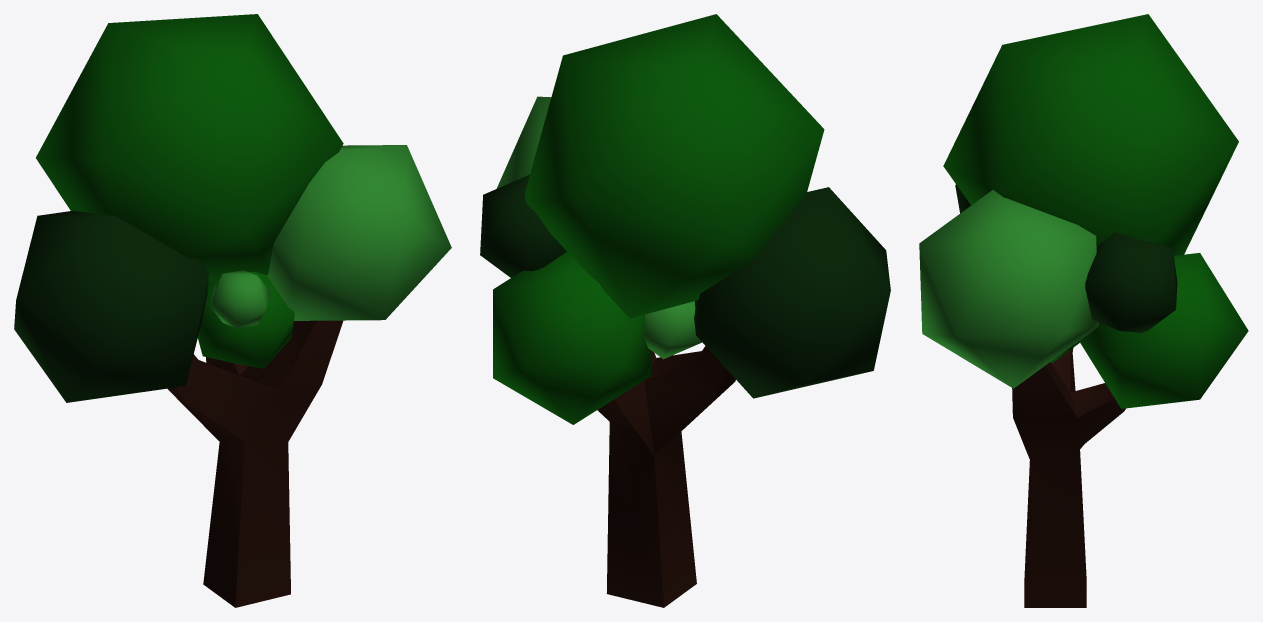
File: Yard_AnyWhere_Tree_NoSwing_1.FBX
3 views of the same model, side by side, from view 1: azimuth 30°, elevation 25°; view 2: azimuth 150°, elevation 25°; view 3: azimuth 270°, elevation 25° (orthographic). The views are drawn at different scales.
Parts seen in each view (by area): view 1: Yard_AnyWhere_Tree_NoSwing_1_leaves02, Yard_AnyWhere_Tree_NoSwing_1_leaves04, Yard_AnyWhere_Tree_NoSwing_1_wood, Yard_AnyWhere_Tree_NoSwing_1_leaves03, Yard_AnyWhere_Tree_NoSwing_1_leaves06, Yard_AnyWhere_Tree_NoSwing_1_leaves01; view 2: Yard_AnyWhere_Tree_NoSwing_1_leaves02, Yard_AnyWhere_Tree_NoSwing_1_leaves04, Yard_AnyWhere_Tree_NoSwing_1_wood, Yard_AnyWhere_Tree_NoSwing_1_leaves05, Yard_AnyWhere_Tree_NoSwing_1_leaves00, Yard_AnyWhere_Tree_NoSwing_1_leaves07, Yard_AnyWhere_Tree_NoSwing_1_leaves03; view 3: Yard_AnyWhere_Tree_NoSwing_1_leaves02, Yard_AnyWhere_Tree_NoSwing_1_leaves03, Yard_AnyWhere_Tree_NoSwing_1_wood, Yard_AnyWhere_Tree_NoSwing_1_leaves05, Yard_AnyWhere_Tree_NoSwing_1_leaves00.
Part boxes in pixels (x1,y1,x2,y2): Yard_AnyWhere_Tree_NoSwing_1_leaves02: (36, 14, 343, 282); Yard_AnyWhere_Tree_NoSwing_1_leaves04: (14, 210, 208, 402); Yard_AnyWhere_Tree_NoSwing_1_wood: (167, 320, 343, 607); Yard_AnyWhere_Tree_NoSwing_1_leaves03: (267, 145, 451, 320); Yard_AnyWhere_Tree_NoSwing_1_leaves06: (198, 271, 294, 368); Yard_AnyWhere_Tree_NoSwing_1_leaves01: (210, 270, 270, 328); Yard_AnyWhere_Tree_NoSwing_1_leaves02: (524, 14, 824, 318); Yard_AnyWhere_Tree_NoSwing_1_leaves04: (694, 187, 890, 398); Yard_AnyWhere_Tree_NoSwing_1_wood: (597, 346, 735, 607); Yard_AnyWhere_Tree_NoSwing_1_leaves05: (493, 251, 650, 424); Yard_AnyWhere_Tree_NoSwing_1_leaves00: (480, 174, 566, 277); Yard_AnyWhere_Tree_NoSwing_1_leaves07: (644, 301, 701, 359); Yard_AnyWhere_Tree_NoSwing_1_leaves03: (496, 96, 551, 188); Yard_AnyWhere_Tree_NoSwing_1_leaves02: (943, 14, 1238, 255); Yard_AnyWhere_Tree_NoSwing_1_leaves03: (919, 190, 1098, 388); Yard_AnyWhere_Tree_NoSwing_1_wood: (1012, 348, 1125, 607); Yard_AnyWhere_Tree_NoSwing_1_leaves05: (1079, 253, 1248, 408); Yard_AnyWhere_Tree_NoSwing_1_leaves00: (1085, 232, 1177, 332).
Bounding box in the file's own units: 870 × 1191 × 662.
